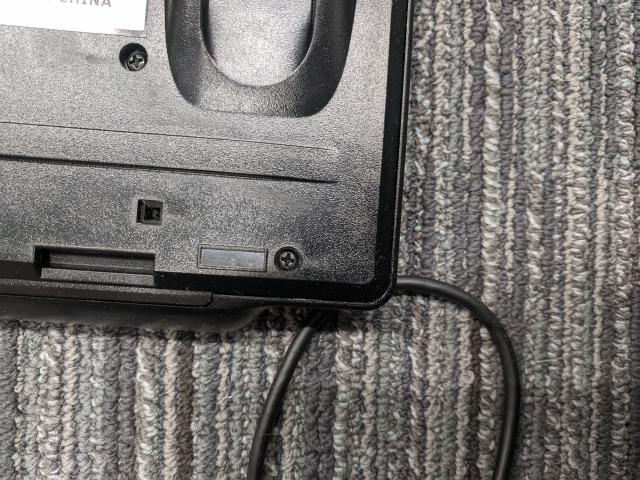CRS: (274, 245, 300, 272), (123, 52, 148, 74)
